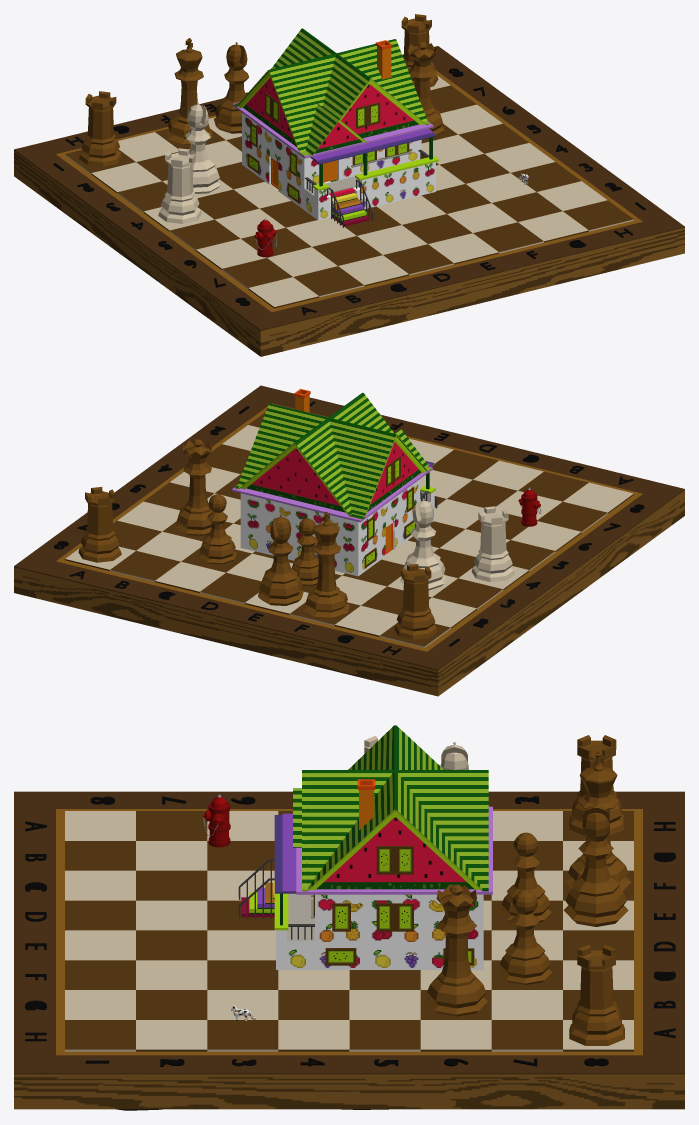
3 renders of one model, top to bottom at view 1: azimuth 30°, elevation 25°; view 2: azimuth 150°, elevation 25°; view 3: azimuth 270°, elevation 25°, orthographic. The views are drawn at different scales.
Parts seen in each view (by area): view 1: Cube.002, Cube.1063, OBJRANDOM_FIRE_HYDRANT; view 2: Cube.002, Cube.1063, OBJRANDOM_FIRE_HYDRANT; view 3: Cube.002, Cube.1063, OBJRANDOM_FIRE_HYDRANT.
Boxes of the visible parts, x1=… form: Cube.002: x1=14, y1=14, x2=684, y2=356; Cube.1063: x1=232, y1=28, x2=438, y2=227; OBJRANDOM_FIRE_HYDRANT: x1=254, y1=218, x2=276, y2=257; Cube.002: x1=14, y1=385, x2=684, y2=696; Cube.1063: x1=232, y1=389, x2=437, y2=576; OBJRANDOM_FIRE_HYDRANT: x1=518, y1=487, x2=541, y2=526; Cube.002: x1=14, y1=735, x2=684, y2=1109; Cube.1063: x1=238, y1=725, x2=492, y2=969; OBJRANDOM_FIRE_HYDRANT: x1=203, y1=794, x2=230, y2=847.
Size of the model in its own units: 3981 by 1457 by 4012.
Materials: 25 (4 with a texture image).
